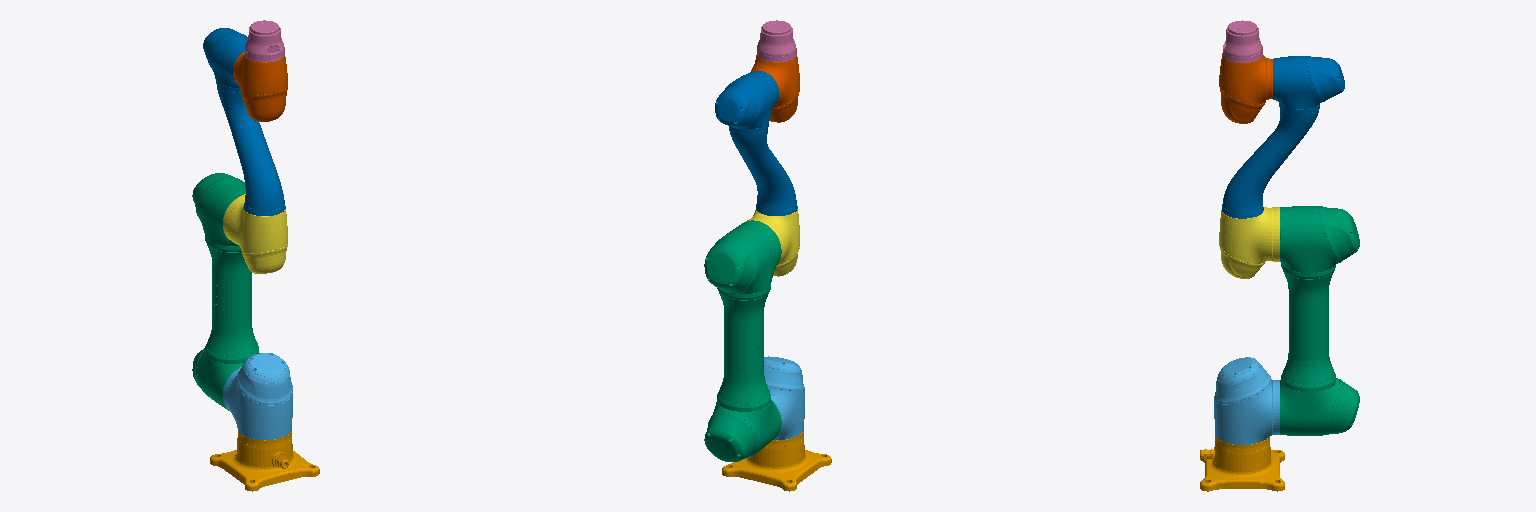
robot.urdf — a0509:
<?xml version="1.0" ?>
<!-- =================================================================================== -->
<!-- |    This document was autogenerated by xacro from /home/theochoi/ros2_ws/src/doosan-robot2-Theo/dsr_description2/xacro/a0509.urdf.xacro | -->
<!-- |    EDITING THIS FILE BY HAND IS NOT RECOMMENDED                                 | -->
<!-- =================================================================================== -->
<robot name="a0509">


    <mujoco>
        <compiler 
        meshdir="assets" 
        balanceinertia="true" 
        discardvisual="false" />
  </mujoco>

  
  <material name="black">
    <color rgba="0.0 0.0 0.0 1.0"/>
  </material>
  <material name="white">
    <color rgba="1.0 1.0 1.0 1.0"/>
  </material>
  <material name="orange">
    <color rgba="1.0 0.4 0.0 1.0"/>
  </material>
  <material name="dr_gray">
    <color rgba="0.490 0.490 0.486 1.0"/>
  </material>
  <material name="dr_white">
    <color rgba="0.941 0.941 0.941 1.0"/>
  </material>
  <material name="dr_blue">
    <color rgba="0 0 0.15 1"/>
  </material>
  <link name="base_link">
    <inertial>
      <mass value="2.198"/>
      <origin xyz="-1e-06   -0.001096    0.058957"/>
      <inertia ixx="0.010511" ixy="4.9786e-06" ixz="7.1839e-06" iyy="0.012033" iyz="-2.3529e-05" izz="0.012481"/>
    </inertial>
    <collision>
      <origin rpy="0 0 0" xyz="0 0 0"/>
      <geometry>
        <mesh filename="A0509_0_0.stl" scale="0.001 0.001 0.001"/>
      </geometry>
    </collision>
    <visual>
      <origin rpy="0 0 0" xyz="0 0 0"/>
      <geometry>
        <mesh filename="A0509_0_0.stl" scale="0.001 0.001 0.001"/>
      </geometry>
    </visual>
  </link>
  <!-- joint 1 -->
  <joint name="joint_1" type="revolute">
    <parent link="base_link"/>
    <child link="link_1"/>
    <origin rpy="0 0 0" xyz="0 0 0.1555"/>
    <axis xyz="0 0 1"/>
    <limit effort="194" lower="-6.2832" upper="6.2832" velocity="3.1416"/>
    <dynamics friction="0"/>
  </joint>
  <link name="link_1">
    <inertial>
      <mass value="3.715"/>
      <origin xyz="-6.9e-05    0.024423   -0.007375"/>
      <inertia ixx="0.01899" ixy="7.8574e-07" ixz="1.865e-05" iyy="0.013731" iyz="-0.00072828" izz="0.01686"/>
    </inertial>
    <collision>
      <origin rpy="0 0 0" xyz="0 0 0"/>
      <geometry>
        <mesh filename="A0509_1_0.stl" scale="0.001 0.001 0.001"/>
      </geometry>
    </collision>
    <visual>
      <origin rpy="0 0 0" xyz="0 0 0"/>
      <geometry>
        <mesh filename="A0509_1_0.stl" scale="0.001 0.001 0.001"/>
      </geometry>
    </visual>
    <collision>
      <origin rpy="0 0 0" xyz="0 0 0"/>
      <geometry>
        <mesh filename="A0509_1_1.stl" scale="0.001 0.001 0.001"/>
      </geometry>
    </collision>
    <visual>
      <origin rpy="0 0 0" xyz="0 0 0"/>
      <geometry>
        <mesh filename="A0509_1_1.stl" scale="0.001 0.001 0.001"/>
      </geometry>
    </visual>
    <collision>
      <origin rpy="0 0 0" xyz="0 0 0"/>
      <geometry>
        <mesh filename="A0509_1_2.stl" scale="0.001 0.001 0.001"/>
      </geometry>
    </collision>
    <visual>
      <origin rpy="0 0 0" xyz="0 0 0"/>
      <geometry>
        <mesh filename="A0509_1_2.stl" scale="0.001 0.001 0.001"/>
      </geometry>
    </visual>
  </link>
  <!-- joint2 -->
  <joint name="joint_2" type="revolute">
    <parent link="link_1"/>
    <child link="link_2"/>
    <origin rpy="0 -1.571 -1.571" xyz="0 0 0"/>
    <axis xyz="0 0 1"/>
    <limit effort="194" lower="-6.2832" upper="6.2832" velocity="3.1416"/>
    <dynamics friction="0"/>
  </joint>
  <link name="link_2">
    <inertial>
      <mass value="6.837"/>
      <origin xyz="0.20449 -1.2521e-17     0.13271"/>
      <inertia ixx="0.019399" ixy="0.00010317" ixz="4.2985e-06" iyy="0.25627" iyz="5.1674e-06" izz="0.25442"/>
    </inertial>
    <collision>
      <origin rpy="0 0 0" xyz="0 0 0"/>
      <geometry>
        <mesh filename="A0509_2_0.stl" scale="0.001 0.001 0.001"/>
      </geometry>
    </collision>
    <visual>
      <origin rpy="0 0 0" xyz="0 0 0"/>
      <geometry>
        <mesh filename="A0509_2_0.stl" scale="0.001 0.001 0.001"/>
      </geometry>
    </visual>
    <collision>
      <origin rpy="0 0 0" xyz="0 0 0"/>
      <geometry>
        <mesh filename="A0509_2_1.stl" scale="0.001 0.001 0.001"/>
      </geometry>
    </collision>
    <visual>
      <origin rpy="0 0 0" xyz="0 0 0"/>
      <geometry>
        <mesh filename="A0509_2_1.stl" scale="0.001 0.001 0.001"/>
      </geometry>
    </visual>
    <collision>
      <origin rpy="0 0 0" xyz="0 0 0"/>
      <geometry>
        <mesh filename="A0509_2_2.stl" scale="0.001 0.001 0.001"/>
      </geometry>
    </collision>
    <visual>
      <origin rpy="0 0 0" xyz="0 0 0"/>
      <geometry>
        <mesh filename="A0509_2_2.stl" scale="0.001 0.001 0.001"/>
      </geometry>
    </visual>
  </link>
  <!-- joint3 -->
  <joint name="joint_3" type="revolute">
    <parent link="link_2"/>
    <child link="link_3"/>
    <origin rpy="0 0 1.571" xyz="0.409 0 0"/>
    <axis xyz="0 0 1"/>
    <limit effort="163" lower="-2.7925" upper="2.7925" velocity="3.1416"/>
    <dynamics friction="0"/>
  </joint>
  <link name="link_3">
    <inertial>
      <mass value="2.769"/>
      <origin xyz="7.1e-05   -0.005123    0.033009"/>
      <inertia ixx="0.012526" ixy="-7.1869e-06" ixz="1.3345e-05" iyy="0.013868" iyz="-0.00047287" izz="0.0088186"/>
    </inertial>
    <collision>
      <origin rpy="0 0 0" xyz="0 0 0"/>
      <geometry>
        <mesh filename="A0509_3_0.stl" scale="0.001 0.001 0.001"/>
      </geometry>
    </collision>
    <visual>
      <origin rpy="0 0 0" xyz="0 0 0"/>
      <geometry>
        <mesh filename="A0509_3_0.stl" scale="0.001 0.001 0.001"/>
      </geometry>
    </visual>
    <collision>
      <origin rpy="0 0 0" xyz="0 0 0"/>
      <geometry>
        <mesh filename="A0509_3_1.stl" scale="0.001 0.001 0.001"/>
      </geometry>
    </collision>
    <visual>
      <origin rpy="0 0 0" xyz="0 0 0"/>
      <geometry>
        <mesh filename="A0509_3_1.stl" scale="0.001 0.001 0.001"/>
      </geometry>
    </visual>
  </link>
  <!-- joint4 -->
  <joint name="joint_4" type="revolute">
    <parent link="link_3"/>
    <child link="link_4"/>
    <origin rpy="1.571 0 0" xyz="0 -0.367 0"/>
    <axis xyz="0 0 1"/>
    <limit effort="50" lower="-6.2832" upper="6.2832" velocity="6.2832"/>
    <dynamics friction="0"/>
  </joint>
  <link name="link_4">
    <inertial>
      <mass value="2.679"/>
      <origin xyz="-8.6e-05    0.086348   -0.086031"/>
      <inertia ixx="0.056068" ixy="2.2109e-05" ixz="1.4522e-05" iyy="0.047122" iyz="-0.014997" izz="0.013329"/>
    </inertial>
    <collision>
      <origin rpy="0 0 0" xyz="0 0 0"/>
      <geometry>
        <mesh filename="A0509_4_0.stl" scale="0.001 0.001 0.001"/>
      </geometry>
    </collision>
    <visual>
      <origin rpy="0 0 0" xyz="0 0 0"/>
      <geometry>
        <mesh filename="A0509_4_0.stl" scale="0.001 0.001 0.001"/>
      </geometry>
    </visual>
    <collision>
      <origin rpy="0 0 0" xyz="0 0 0"/>
      <geometry>
        <mesh filename="A0509_4_1.stl" scale="0.001 0.001 0.001"/>
      </geometry>
    </collision>
    <visual>
      <origin rpy="0 0 0" xyz="0 0 0"/>
      <geometry>
        <mesh filename="A0509_4_1.stl" scale="0.001 0.001 0.001"/>
      </geometry>
    </visual>
  </link>
  <!-- joint5 -->
  <joint name="joint_5" type="revolute">
    <parent link="link_4"/>
    <child link="link_5"/>
    <origin rpy="-1.571 0 0" xyz="0 0 0"/>
    <axis xyz="0 0 1"/>
    <limit effort="50" lower="-6.2832" upper="6.2832" velocity="6.2832"/>
    <dynamics friction="0"/>
  </joint>
  <link name="link_5">
    <inertial>
      <mass value="2.051"/>
      <origin xyz="9.1e-05   -0.006457    0.015434"/>
      <inertia ixx="0.0090788" ixy="-5.3997e-06" ixz="8.3955e-06" iyy="0.0084721" iyz="-0.0001816" izz="0.010453"/>
    </inertial>
    <collision>
      <origin rpy="0 0 0" xyz="0 0 0"/>
      <geometry>
        <mesh filename="A0509_5_0.stl" scale="0.001 0.001 0.001"/>
      </geometry>
    </collision>
    <visual>
      <origin rpy="0 0 0" xyz="0 0 0"/>
      <geometry>
        <mesh filename="A0509_5_0.stl" scale="0.001 0.001 0.001"/>
      </geometry>
    </visual>
    <collision>
      <origin rpy="0 0 0" xyz="0 0 0"/>
      <geometry>
        <mesh filename="A0509_5_1.stl" scale="0.001 0.001 0.001"/>
      </geometry>
    </collision>
    <visual>
      <origin rpy="0 0 0" xyz="0 0 0"/>
      <geometry>
        <mesh filename="A0509_5_1.stl" scale="0.001 0.001 0.001"/>
      </geometry>
    </visual>
  </link>
  <!-- joint6 -->
  <joint name="joint_6" type="revolute">
    <parent link="link_5"/>
    <child link="link_6"/>
    <origin rpy="1.571 0 0" xyz="0 -0.124 0"/>
    <axis xyz="0 0 1"/>
    <limit effort="50" lower="-6.2832" upper="6.2832" velocity="6.2832"/>
    <dynamics friction="0"/>
  </joint>
  <link name="link_6">
    <inertial>
      <mass value="0.773"/>
      <origin xyz="-2.2e-05      -7e-06   -0.051746"/>
      <inertia ixx="0.0087483" ixy="7.9428e-06" ixz="1.7034e-06" iyy="0.0078566" iyz="9.6857e-06" izz="0.0044452"/>
    </inertial>
    <collision>
      <origin rpy="0 0 0" xyz="0 0 0"/>
      <geometry>
        <mesh filename="A0509_6_0.stl" scale="0.001 0.001 0.001"/>
      </geometry>
    </collision>
    <visual>
      <origin rpy="0 0 0" xyz="0 0 0"/>
      <geometry>
        <mesh filename="A0509_6_0.stl" scale="0.001 0.001 0.001"/>
      </geometry>
    </visual>
  </link>
  <!-- Transmission 1 -->
  <transmission name="tran1">
    <type>transmission_interface/SimpleTransmission</type>
    <joint name="joint1">
      <hardwareInterface>hardware_interface/PositionJointInterface</hardwareInterface>
    </joint>
    <actuator name="motor1">
      <hardwareInterface>hardware_interface/PositionJointInterface</hardwareInterface>
      <mechanicalReduction>1</mechanicalReduction>
    </actuator>
  </transmission>
  <!-- Transmission 2 -->
  <transmission name="tran2">
    <type>transmission_interface/SimpleTransmission</type>
    <joint name="joint2">
      <hardwareInterface>hardware_interface/PositionJointInterface</hardwareInterface>
    </joint>
    <actuator name="motor2">
      <hardwareInterface>hardware_interface/PositionJointInterface</hardwareInterface>
      <mechanicalReduction>1</mechanicalReduction>
    </actuator>
  </transmission>
  <!-- Transmission 3 -->
  <transmission name="tran3">
    <type>transmission_interface/SimpleTransmission</type>
    <joint name="joint3">
      <hardwareInterface>hardware_interface/PositionJointInterface</hardwareInterface>
    </joint>
    <actuator name="motor3">
      <hardwareInterface>hardware_interface/PositionJointInterface</hardwareInterface>
      <mechanicalReduction>1</mechanicalReduction>
    </actuator>
  </transmission>
  <!-- Transmission 4 -->
  <transmission name="tran4">
    <type>transmission_interface/SimpleTransmission</type>
    <joint name="joint4">
      <hardwareInterface>hardware_interface/PositionJointInterface</hardwareInterface>
    </joint>
    <actuator name="motor4">
      <hardwareInterface>hardware_interface/PositionJointInterface</hardwareInterface>
      <mechanicalReduction>1</mechanicalReduction>
    </actuator>
  </transmission>
  <!-- Transmission 5 -->
  <transmission name="tran5">
    <type>transmission_interface/SimpleTransmission</type>
    <joint name="joint5">
      <hardwareInterface>hardware_interface/PositionJointInterface</hardwareInterface>
    </joint>
    <actuator name="motor5">
      <hardwareInterface>hardware_interface/PositionJointInterface</hardwareInterface>
      <mechanicalReduction>1</mechanicalReduction>
    </actuator>
  </transmission>
  <!-- Transmission 6 -->
  <transmission name="tran6">
    <type>transmission_interface/SimpleTransmission</type>
    <joint name="joint6">
      <hardwareInterface>hardware_interface/PositionJointInterface</hardwareInterface>
    </joint>
    <actuator name="motor6">
      <hardwareInterface>hardware_interface/PositionJointInterface</hardwareInterface>
      <mechanicalReduction>1</mechanicalReduction>
    </actuator>
  </transmission>
  <!-- ros_control plugin -->
  <gazebo>
    <plugin filename="ign_ros2_control-system" name="ign_ros2_control::IgnitionROS2ControlPlugin">
      <ros>
        <namespace></namespace>
      </ros>
      <parameters>/home/theochoi/ros2_ws/install/dsr_controller2/share/dsr_controller2/config/dsr_controller2_gz.yaml</parameters>
    </plugin>
  </gazebo>
  <!-- Base -->
  <gazebo reference="base_0">
    <kp>100000.0</kp>
    <kd>100.0</kd>
    <mu1>30.0</mu1>
    <mu2>30.0</mu2>
    <maxVel>1.0</maxVel>
    <minDepth>0.001</minDepth>
  </gazebo>
  <!-- Link1 -->
  <gazebo reference="link1">
    <kp>100000.0</kp>
    <kd>100.0</kd>
    <mu1>30.0</mu1>
    <mu2>30.0</mu2>
    <maxVel>1.0</maxVel>
    <minDepth>0.001</minDepth>
  </gazebo>
  <!-- Link2 -->
  <gazebo reference="link2">
    <kp>100000.0</kp>
    <kd>100.0</kd>
    <mu1>30.0</mu1>
    <mu2>30.0</mu2>
    <maxVel>1.0</maxVel>
    <minDepth>0.001</minDepth>
  </gazebo>
  <!-- Link3 -->
  <gazebo reference="link3">
    <kp>100000.0</kp>
    <kd>100.0</kd>
    <mu1>30.0</mu1>
    <mu2>30.0</mu2>
    <maxVel>1.0</maxVel>
    <minDepth>0.001</minDepth>
  </gazebo>
  <!-- Link4 -->
  <gazebo reference="link4">
    <kp>100000.0</kp>
    <kd>100.0</kd>
    <mu1>30.0</mu1>
    <mu2>30.0</mu2>
    <maxVel>1.0</maxVel>
    <minDepth>0.001</minDepth>
  </gazebo>
  <!-- Link5 -->
  <gazebo reference="link5">
    <kp>100000.0</kp>
    <kd>100.0</kd>
    <mu1>30.0</mu1>
    <mu2>30.0</mu2>
    <maxVel>1.0</maxVel>
    <minDepth>0.001</minDepth>
  </gazebo>
  <!-- Link6 -->
  <gazebo reference="link6">
    <kp>100000.0</kp>
    <kd>100.0</kd>
    <mu1>30.0</mu1>
    <mu2>30.0</mu2>
    <maxVel>1.0</maxVel>
    <minDepth>0.001</minDepth>
  </gazebo>
  <link name="world"/>
  <!-- World fixed joint-->
  <joint name="world_fixed" type="fixed">
    <origin rpy="0 0 0" xyz="0 0 0"/>
    <parent link="world"/>
    <child link="base_link"/>
  </joint>
  <ros2_control name="a0509" type="system">
    <hardware>
      <plugin>dsr_hardware2/DRHWInterface</plugin>
      <param name="host"></param>
      <param name="rt_host"></param>
      <param name="port"></param>
      <param name="mode"></param>
      <param name="model"></param>
    </hardware>
    <joint name="joint_1">
      <command_interface name="position">
        <param name="min">{-2*pi}</param>
        <param name="max">{2*pi}</param>
      </command_interface>
      <command_interface name="velocity">
        <param name="min">-3.15</param>
        <param name="max">3.15</param>
      </command_interface>
      <state_interface name="position">
        <param name="initial_value">0.0</param>
      </state_interface>
      <state_interface name="velocity"/>
    </joint>
    <joint name="joint_2">
      <command_interface name="position">
        <param name="min">{-2*pi}</param>
        <param name="max">{2*pi}</param>
      </command_interface>
      <command_interface name="velocity">
        <param name="min">-3.15</param>
        <param name="max">3.15</param>
      </command_interface>
      <state_interface name="position">
        <param name="initial_value">0.0</param>
      </state_interface>
      <state_interface name="velocity"/>
    </joint>
    <joint name="joint_3">
      <command_interface name="position">
        <param name="min">{-pi}</param>
        <param name="max">{pi}</param>
      </command_interface>
      <command_interface name="velocity">
        <param name="min">-3.15</param>
        <param name="max">3.15</param>
      </command_interface>
      <state_interface name="position">
        <param name="initial_value">0.0</param>
      </state_interface>
      <state_interface name="velocity"/>
    </joint>
    <joint name="joint_4">
      <command_interface name="position">
        <param name="min">{-2*pi}</param>
        <param name="max">{2*pi}</param>
      </command_interface>
      <command_interface name="velocity">
        <param name="min">-3.2</param>
        <param name="max">3.2</param>
      </command_interface>
      <state_interface name="position">
        <param name="initial_value">0.0</param>
      </state_interface>
      <state_interface name="velocity"/>
    </joint>
    <joint name="joint_5">
      <command_interface name="position">
        <param name="min">{-2*pi}</param>
        <param name="max">{2*pi}</param>
      </command_interface>
      <command_interface name="velocity">
        <param name="min">-3.2</param>
        <param name="max">3.2</param>
      </command_interface>
      <state_interface name="position">
        <param name="initial_value">0.0</param>
      </state_interface>
      <state_interface name="velocity"/>
    </joint>
    <joint name="joint_6">
      <command_interface name="position">
        <param name="min">{-2*pi}</param>
        <param name="max">{2*pi}</param>
      </command_interface>
      <command_interface name="velocity">
        <param name="min">-3.2</param>
        <param name="max">3.2</param>
      </command_interface>
      <state_interface name="position">
        <param name="initial_value">0.0</param>
      </state_interface>
      <state_interface name="velocity"/>
    </joint>
  </ros2_control>
</robot>

--- Facts derived from the render (not from the file) ---
Views: 3 orthographic renders of the robot side by side, from view 1: azimuth 30°, elevation 25°; view 2: azimuth 150°, elevation 25°; view 3: azimuth 270°, elevation 25°.
Model a0509 with 8 links and 7 joints (6 revolute, 1 fixed), rooted at world, posed every joint at zero.
Visible links, largest first — view 1: link_2, link_4, link_1, base_link, link_3, link_5, link_6; view 2: link_2, link_4, base_link, link_1, link_5, link_3, link_6; view 3: link_2, link_4, link_1, base_link, link_3, link_5, link_6.
Boxes of the visible links, box(x1,y1,x2,y2) form: link_2: box(192, 173, 258, 410); link_4: box(203, 28, 285, 215); link_1: box(223, 353, 292, 439); base_link: box(210, 431, 319, 491); link_3: box(223, 194, 287, 273); link_5: box(233, 52, 287, 121); link_6: box(245, 20, 284, 61); link_2: box(704, 220, 781, 461); link_4: box(715, 70, 797, 215); base_link: box(722, 431, 831, 491); link_1: box(764, 356, 804, 439); link_5: box(751, 55, 799, 122); link_3: box(746, 209, 799, 276); link_6: box(757, 20, 796, 61); link_2: box(1280, 206, 1359, 435); link_4: box(1222, 56, 1344, 218); link_1: box(1214, 357, 1279, 444); base_link: box(1200, 435, 1284, 491); link_3: box(1219, 207, 1279, 278); link_5: box(1219, 55, 1272, 123); link_6: box(1222, 20, 1262, 62).
Bounding box of the posed robot: 0.182 × 0.342 × 1.06 m (x, y, z).
Meshes: 14 distinct files referenced, 14 mesh visuals loaded (14 binary STL).
